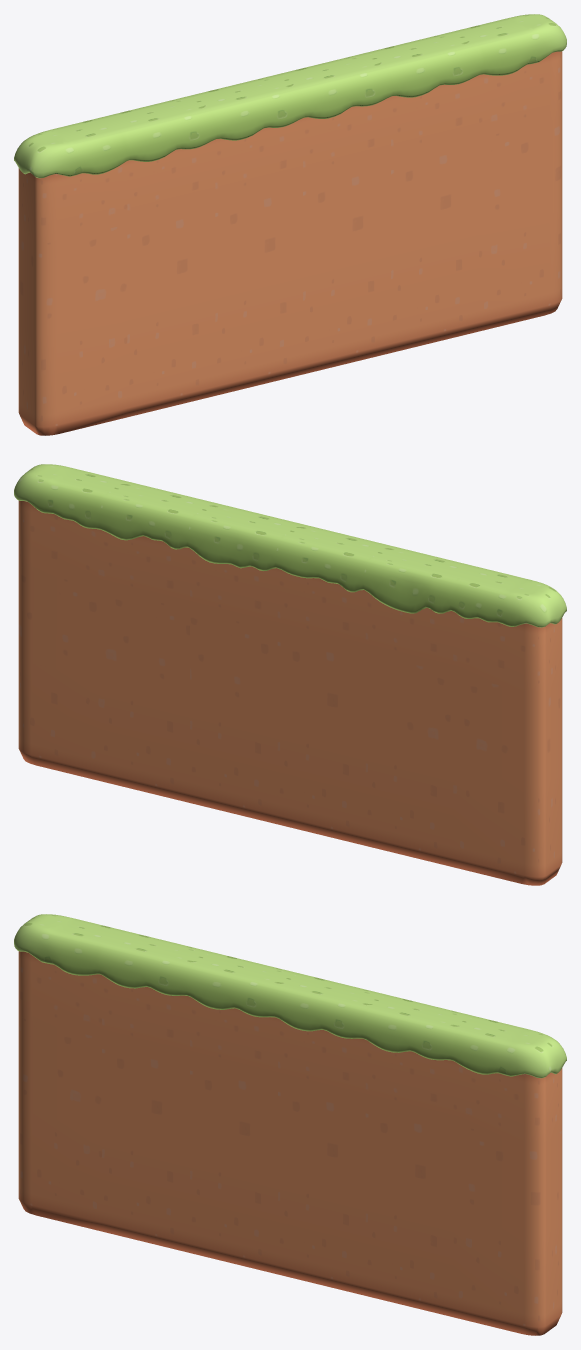
The model's file is basicPlatform_3x3.fbx.
3 renders of one model, top to bottom at view 1: azimuth 30°, elevation 25°; view 2: azimuth 150°, elevation 25°; view 3: azimuth 330°, elevation 25°, orthographic.
Visible parts, largest first — view 1: basicPlatform_3x3; view 2: basicPlatform_3x3; view 3: basicPlatform_3x3.
Boxes of the visible parts, x1,y1,x2,y2 form: basicPlatform_3x3: [14, 14, 566, 435]; basicPlatform_3x3: [14, 464, 566, 885]; basicPlatform_3x3: [14, 914, 566, 1335].
Bounding box in the file's own units: 1224 × 623 × 126.
